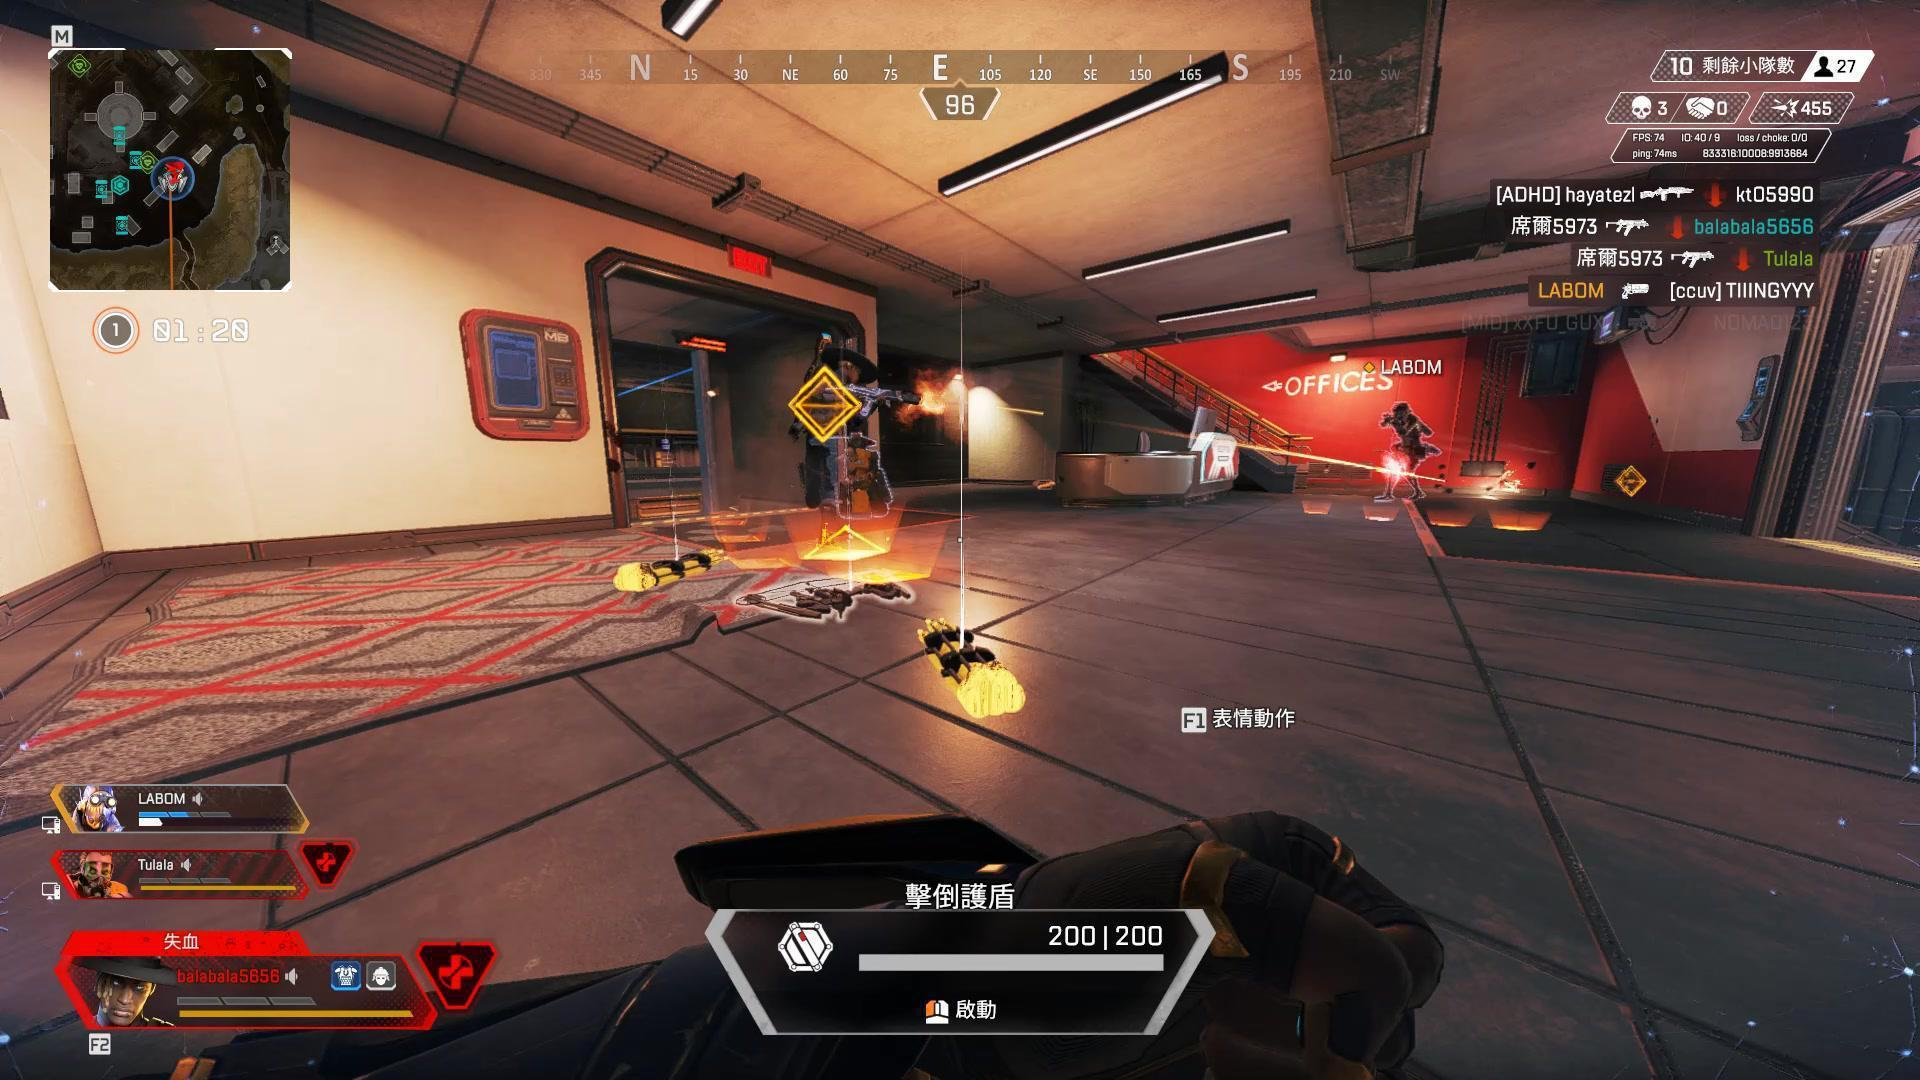avatar: (1382, 400, 1431, 504)
object: (788, 365, 863, 445), (1373, 446, 1414, 491)
